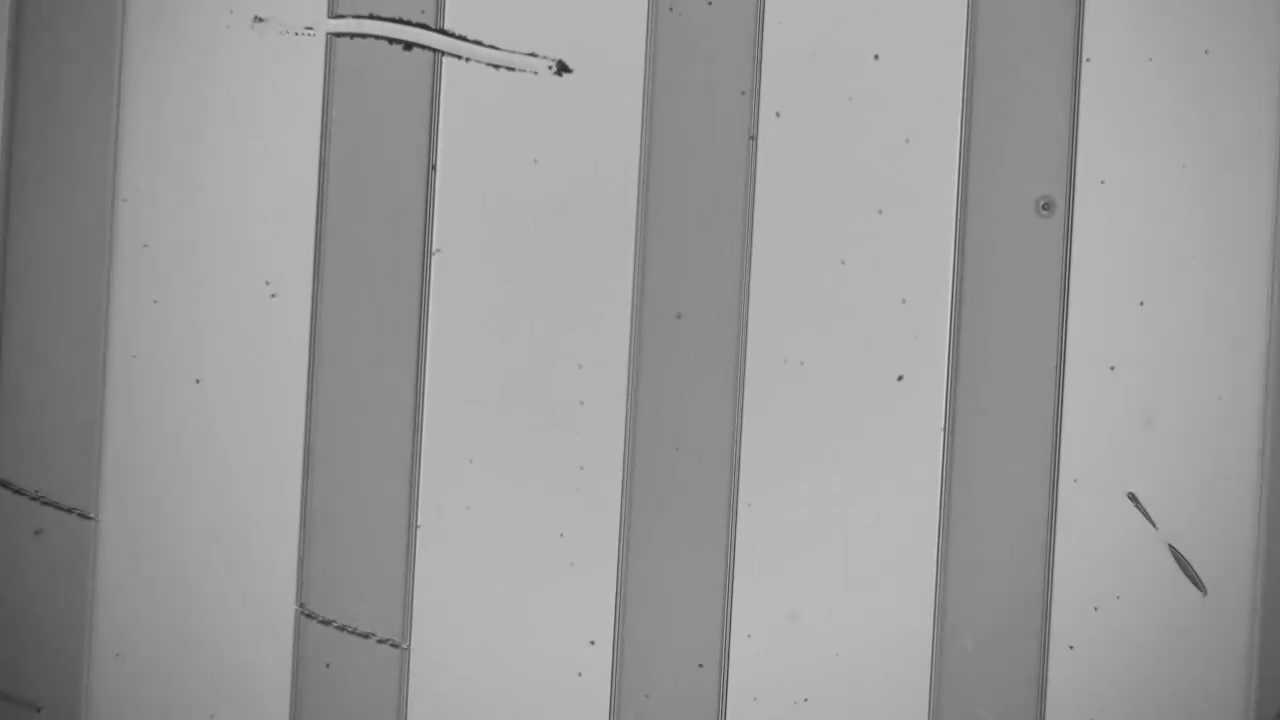Short_circuit: (308, 3, 467, 77)
scratch: (307, 601, 397, 656), (5, 477, 82, 530)
